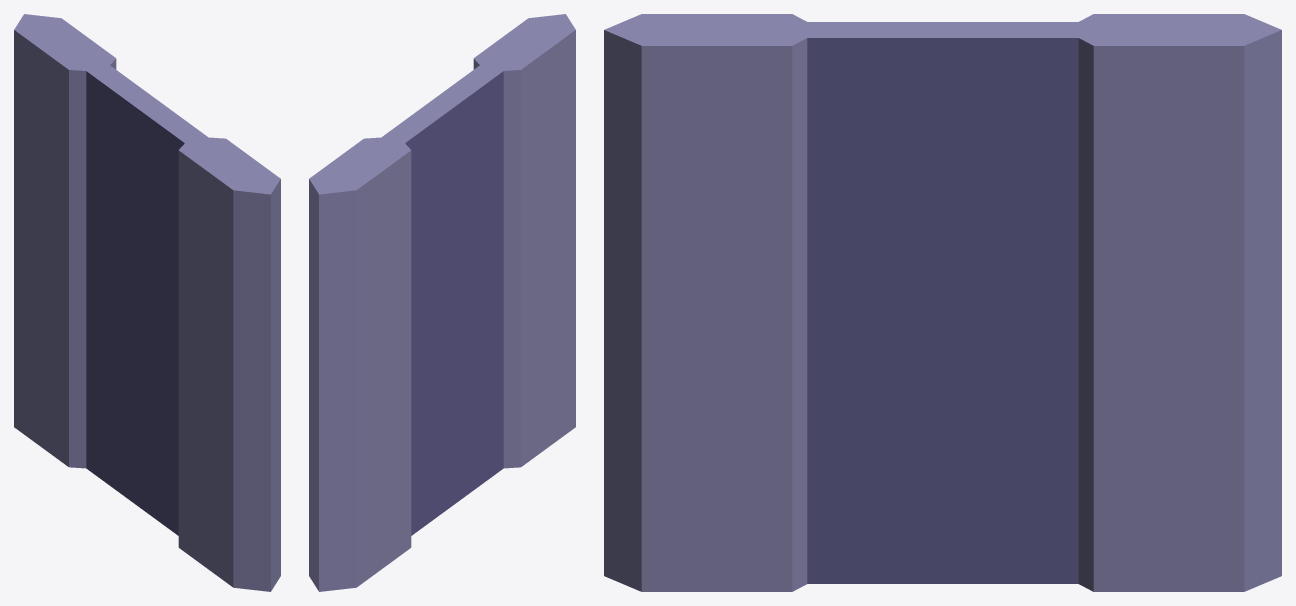
The model's file is wall.fbx.
The picture shows the model from 3 angles, left to right: view 1: azimuth 30°, elevation 25°; view 2: azimuth 150°, elevation 25°; view 3: azimuth 270°, elevation 25°; orthographic projection. The views are drawn at different scales.
Visible parts, largest first — view 1: wall_indent; view 2: wall_indent; view 3: wall_indent.
Part boxes in pixels (x1,y1,x2,y2): wall_indent: [14, 14, 280, 591]; wall_indent: [309, 14, 575, 591]; wall_indent: [604, 14, 1281, 591].
Bounding box in the file's own units: 1.25 × 10 × 11.25.
